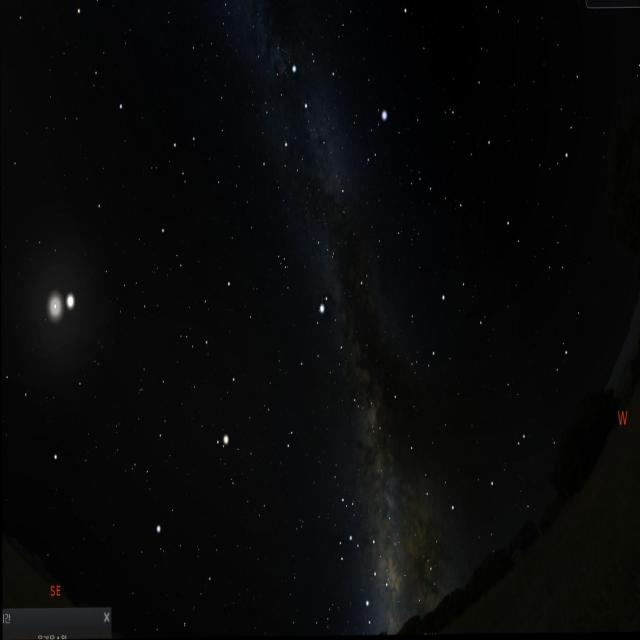aquila: (296, 295, 369, 420)
cygnus: (275, 57, 348, 213)
lyra: (356, 105, 391, 178)
moon: (34, 272, 66, 337)
sagittarius: (346, 526, 396, 626)
